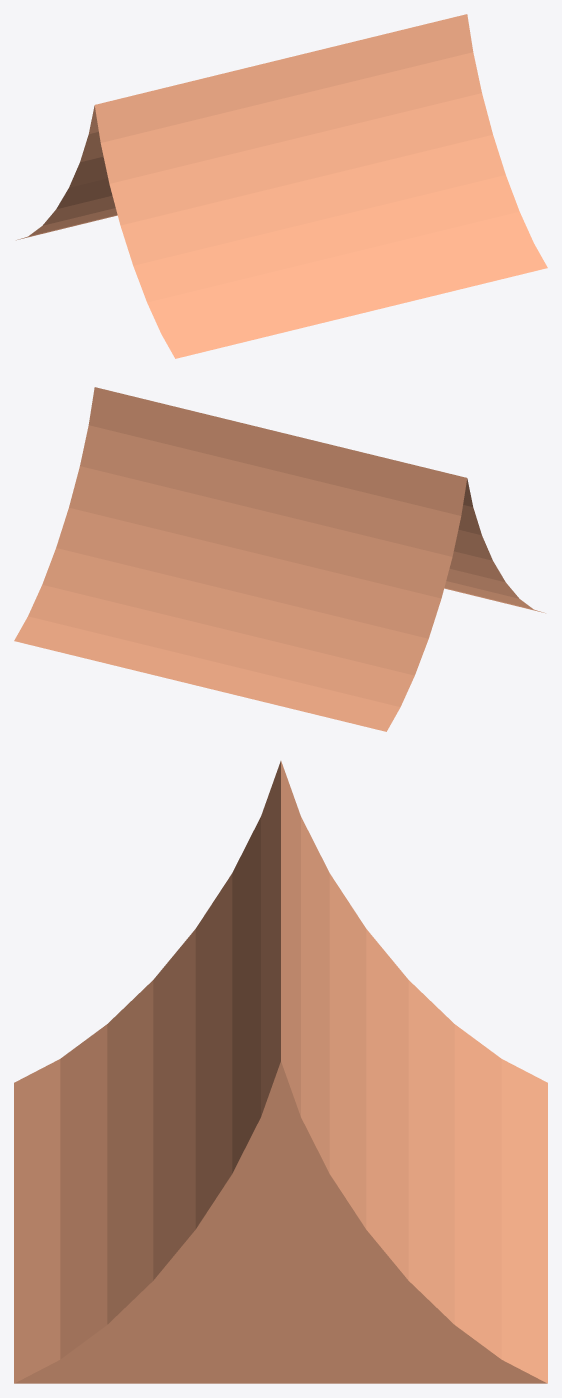
The model's file is Tent.fbx.
3 renders of one model, top to bottom at view 1: azimuth 30°, elevation 25°; view 2: azimuth 150°, elevation 25°; view 3: azimuth 270°, elevation 25°, orthographic. The views are drawn at different scales.
Visible parts, largest first — view 1: Cube; view 2: Cube; view 3: Cube.
Boxes of the visible parts, left/top/right/bottom form: Cube: left=16, top=14, right=547, bottom=358; Cube: left=14, top=387, right=545, bottom=731; Cube: left=14, top=761, right=547, bottom=1383.
Bounding box in the file's own units: 1200 × 600 × 900.
